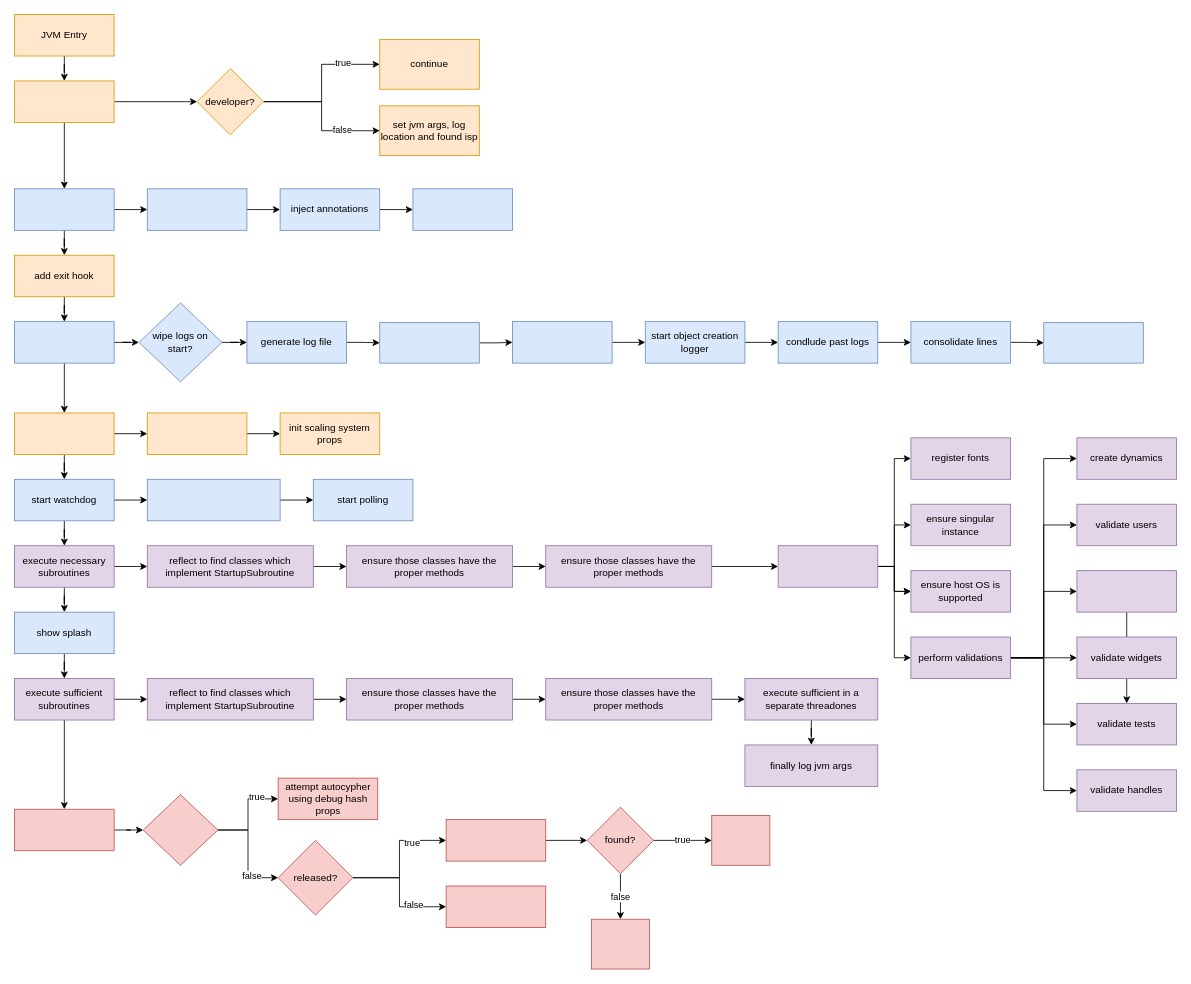
The diagram is 1191 pixels wide and 984 high, and some of its shapes have lost their labels. The centre of each missing label's shape, as x and y in pixels:
"attempt to find previously logged in user" goes at (495,840).
"autocypher?" goes at (180,829).
"clean users" goes at (1126,591).
"determine Cyder entry" goes at (64,829).
"execute necessary" goes at (827,566).
"fatal exit" goes at (495,906).
"initialize logger" goes at (64,342).
"initialize system props" goes at (64,433).
"load props" goes at (64,209).
"Locate and validate prop files" goes at (196,209).
"log jvm args" goes at (64,101).
"log jvm entry" goes at (562,342).
"read all props into immutable list" goes at (462,209).
"setup tootlips" goes at (196,433).
"show console" goes at (740,840).
"show login" goes at (620,943).
"wait for awt-event-queue-0 to start" goes at (213,499).
"write ascii art" goes at (429,342).
"zip past logs" goes at (1093,342).
